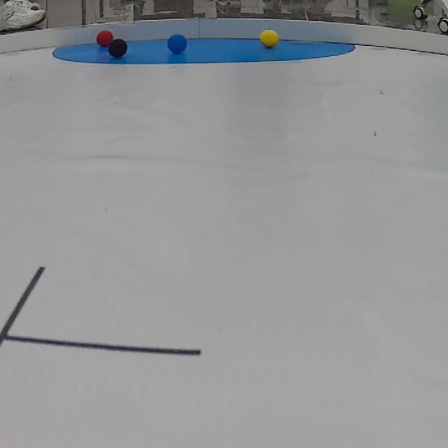black: (108, 38, 128, 56)
blue: (165, 32, 191, 53)
blue_base: (51, 40, 356, 63)
red: (97, 31, 115, 46)
yellow: (258, 27, 281, 46)
